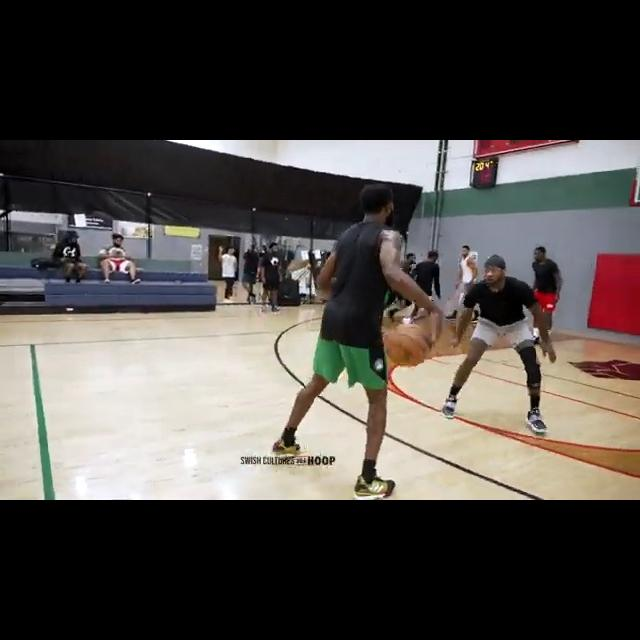basketball: (383, 323, 434, 368)
